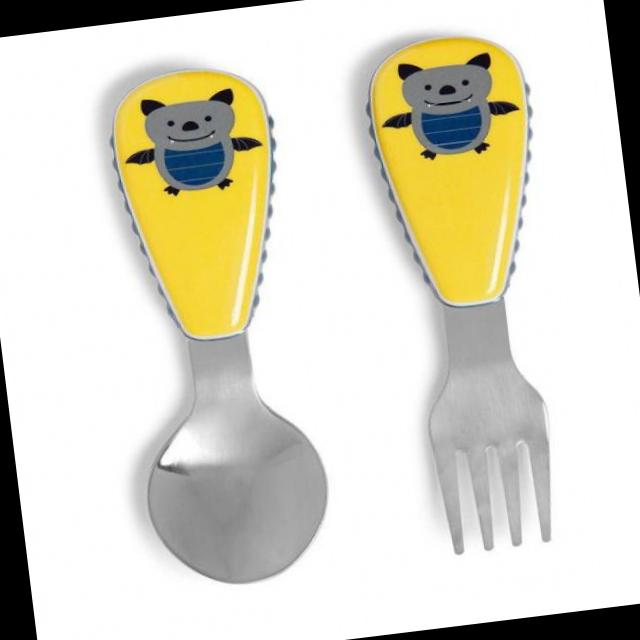fork: (363, 29, 584, 562)
spoon: (86, 37, 349, 604)
